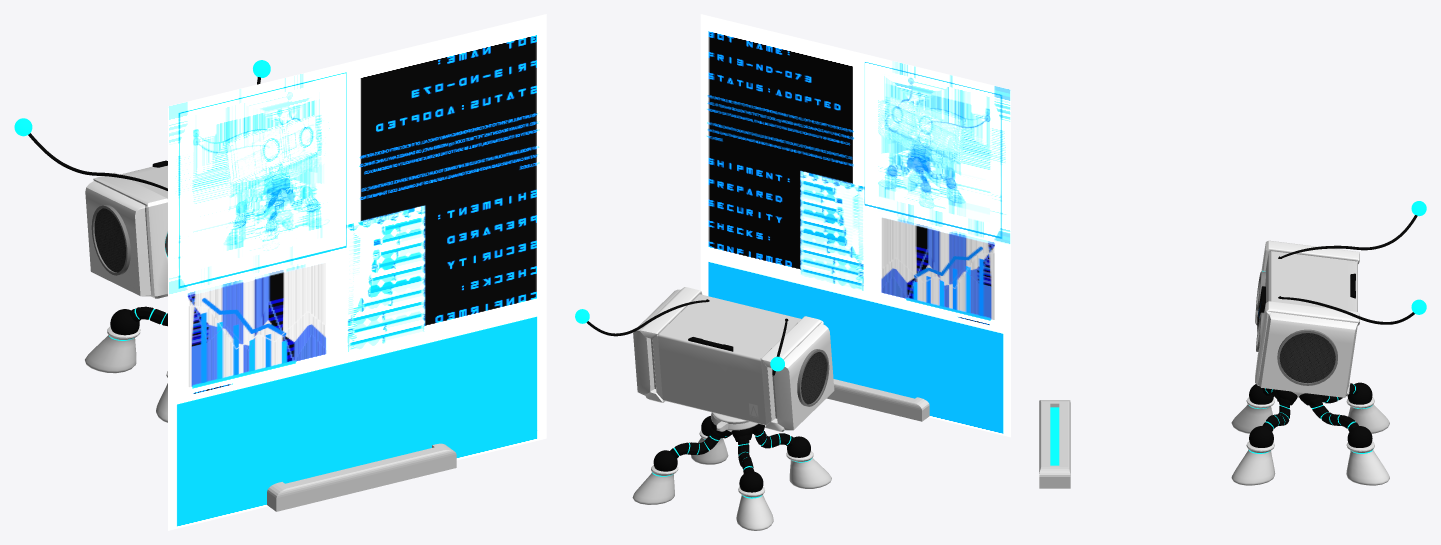
3 views of the same model, side by side, from view 1: azimuth 30°, elevation 25°; view 2: azimuth 150°, elevation 25°; view 3: azimuth 270°, elevation 25° (orthographic). The views are drawn at different scales.
Parts seen in each view (by area): view 1: chart holo_8, Sphere_3, Cube.001_9; view 2: chart holo_8, Sphere_3, Cube.001_9; view 3: Sphere_3, Cube.001_9.
Boxes of the visible parts, x1,y1,x2,y2 form: chart holo_8: (168, 14, 546, 530); Sphere_3: (14, 60, 270, 422); Cube.001_9: (267, 443, 456, 511); chart holo_8: (700, 14, 1010, 437); Sphere_3: (575, 287, 834, 530); Cube.001_9: (827, 379, 929, 421); Sphere_3: (1231, 201, 1426, 485); Cube.001_9: (1039, 400, 1070, 488).
Size of the model in its own units: 0.7912 by 0.8478 by 0.8266.
